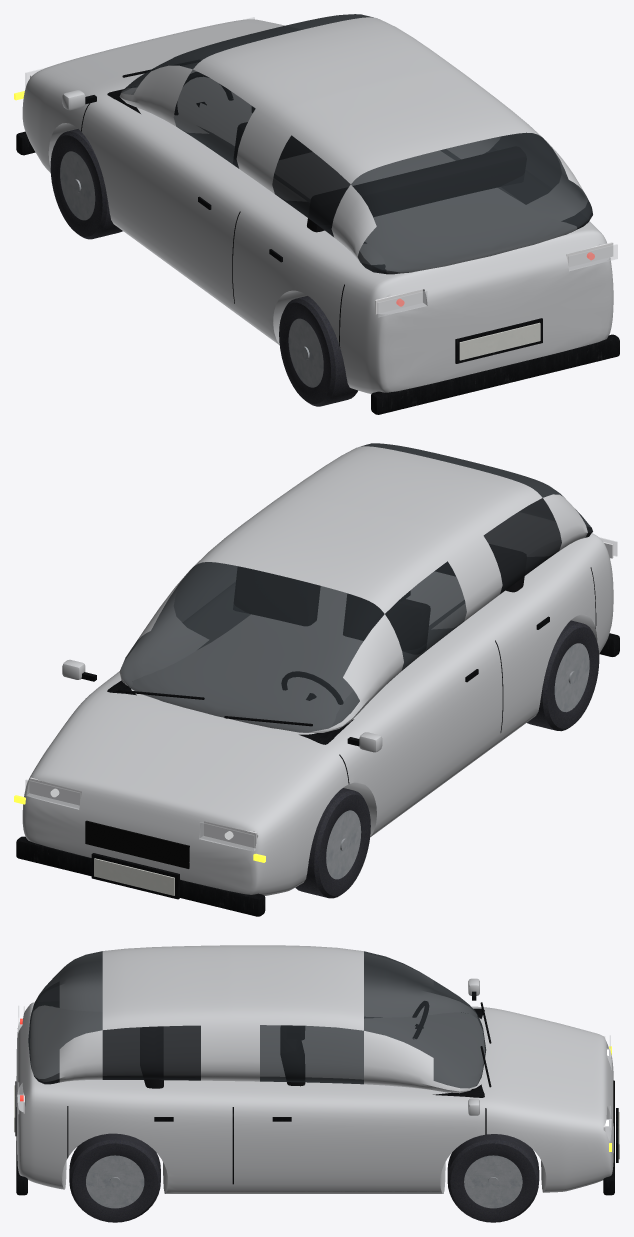
Rendered from hatchback_silver.gltf.
The picture shows the model from 3 angles, top to bottom: view 1: azimuth 30°, elevation 25°; view 2: azimuth 150°, elevation 25°; view 3: azimuth 270°, elevation 25°; orthographic projection. The views are drawn at different scales.
Parts seen in each view (by area): view 1: hatchback_silver; view 2: hatchback_silver; view 3: hatchback_silver.
Part boxes in pixels (x1,y1,x2,y2): hatchback_silver: [14, 14, 619, 414]; hatchback_silver: [14, 443, 619, 916]; hatchback_silver: [14, 945, 619, 1222].
Size of the model in its own units: 2.04 by 1.45 by 4.1.
Materials: 17 (8 with a texture image).
